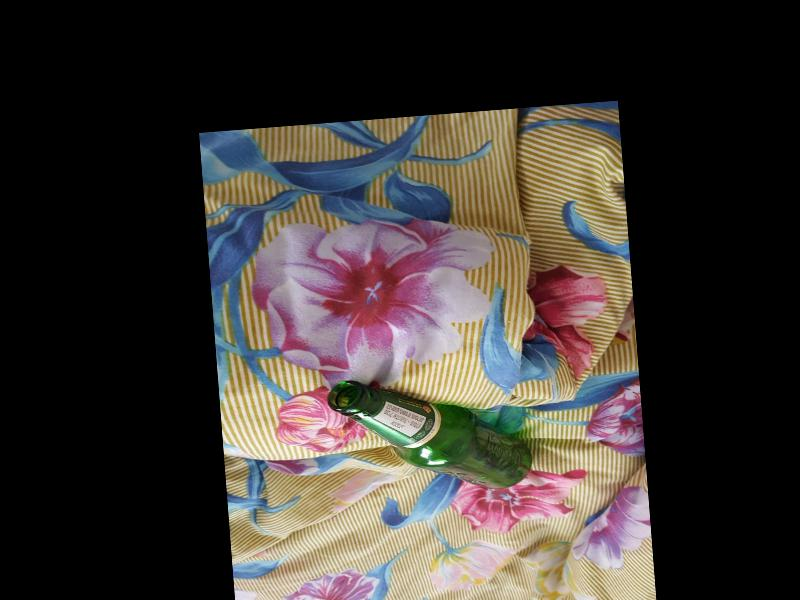Beer: (327, 366, 531, 500)
